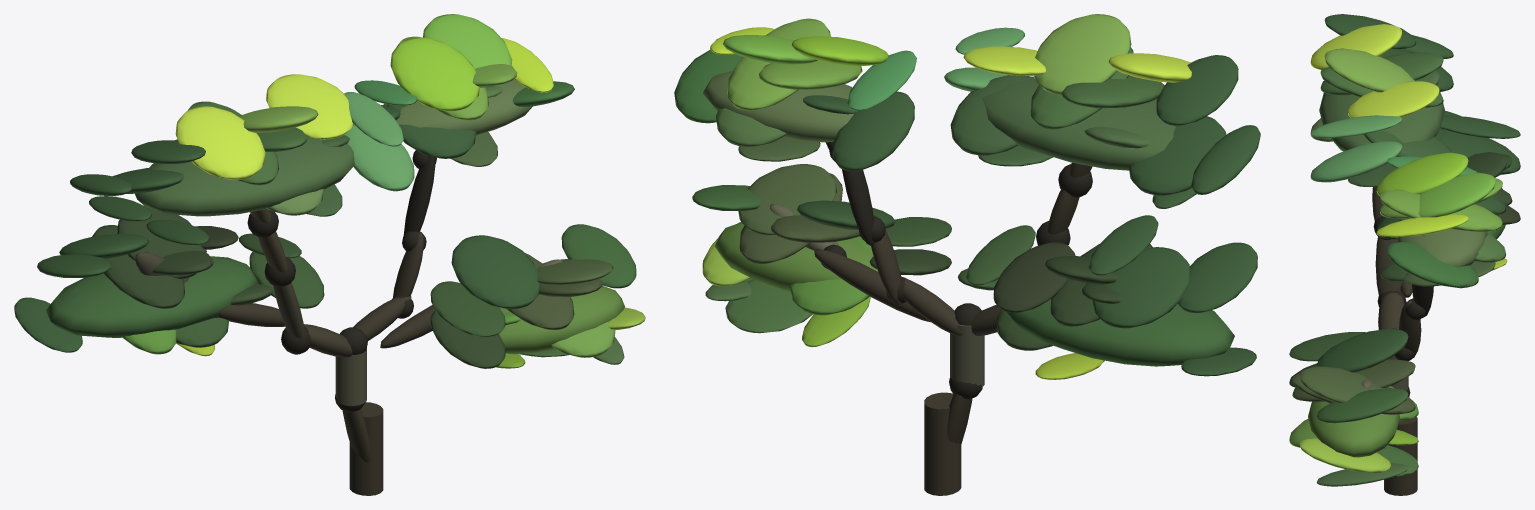
The model's file is CMU3DRMCBushk3.glb.
The picture shows the model from 3 angles, left to right: view 1: azimuth 30°, elevation 25°; view 2: azimuth 150°, elevation 25°; view 3: azimuth 270°, elevation 25°; orthographic projection. The views are drawn at different scales.
Visible parts, largest first — view 1: canopy 2 irregular shaded core, canopy 0 irregular shaded core, canopy 3 source leaf patch 2, canopy 1 source leaf patch 4, canopy 0 source leaf patch 4, canopy 0 source leaf patch 6, canopy 3 irregular shaded core, canopy 1 source leaf patch 2, canopy 1 irregular shaded core, canopy 0 source leaf patch 8, canopy 3 source leaf patch 6, canopy 3 source leaf patch 8 (+42 smaller); view 2: canopy 2 irregular shaded core, canopy 0 irregular shaded core, canopy 0 source leaf patch 3, canopy 2 source leaf patch 1, canopy 1 source leaf patch 5, canopy 1 irregular shaded core, canopy 0 source leaf patch 5, canopy 0 source leaf patch 7, canopy 2 source leaf patch 7, canopy 3 irregular shaded core, canopy 3 source leaf patch 3, canopy 2 source leaf patch 5 (+47 smaller); view 3: canopy 3 irregular shaded core, canopy 0 irregular shaded core, canopy 3 source leaf patch 2, canopy 0 source leaf patch 3, canopy 1 source leaf patch 4, canopy 0 source leaf patch 6, canopy 1 source leaf patch 3, canopy 1 source leaf patch 2, canopy 0 source leaf patch 8, canopy 1 irregular shaded core, canopy 3 source leaf patch 6, canopy 0 source leaf patch 4 (+35 smaller).
Part boxes in pixels (bbox=[...]): canopy 2 irregular shaded core: bbox=[46, 256, 258, 337]; canopy 0 irregular shaded core: bbox=[135, 137, 354, 216]; canopy 3 source leaf patch 2: bbox=[451, 235, 540, 309]; canopy 1 source leaf patch 4: bbox=[390, 37, 479, 111]; canopy 0 source leaf patch 4: bbox=[175, 106, 265, 180]; canopy 0 source leaf patch 6: bbox=[266, 74, 353, 139]; canopy 3 irregular shaded core: bbox=[499, 286, 624, 354]; canopy 1 source leaf patch 2: bbox=[423, 14, 512, 87]; canopy 1 irregular shaded core: bbox=[383, 79, 532, 135]; canopy 0 source leaf patch 8: bbox=[344, 124, 414, 191]; canopy 3 source leaf patch 6: bbox=[561, 224, 636, 288]; canopy 3 source leaf patch 8: bbox=[430, 281, 505, 336]; canopy 2 irregular shaded core: bbox=[1006, 299, 1234, 366]; canopy 0 irregular shaded core: bbox=[981, 76, 1175, 170]; canopy 0 source leaf patch 3: bbox=[1034, 14, 1131, 94]; canopy 2 source leaf patch 1: bbox=[1092, 247, 1190, 328]; canopy 1 source leaf patch 5: bbox=[832, 91, 914, 171]; canopy 1 irregular shaded core: bbox=[703, 71, 853, 142]; canopy 0 source leaf patch 5: bbox=[1129, 116, 1226, 195]; canopy 0 source leaf patch 7: bbox=[1156, 55, 1238, 125]; canopy 2 source leaf patch 7: bbox=[1178, 242, 1257, 312]; canopy 3 irregular shaded core: bbox=[715, 222, 873, 292]; canopy 3 source leaf patch 3: bbox=[738, 164, 836, 235]; canopy 2 source leaf patch 5: bbox=[993, 242, 1075, 312]; canopy 3 irregular shaded core: bbox=[1308, 401, 1399, 457]; canopy 0 irregular shaded core: bbox=[1319, 80, 1444, 151]; canopy 3 source leaf patch 2: bbox=[1317, 328, 1408, 372]; canopy 0 source leaf patch 3: bbox=[1324, 48, 1414, 92]; canopy 1 source leaf patch 4: bbox=[1376, 152, 1468, 195]; canopy 0 source leaf patch 6: bbox=[1348, 81, 1439, 117]; canopy 1 source leaf patch 3: bbox=[1387, 241, 1478, 288]; canopy 1 source leaf patch 2: bbox=[1418, 172, 1495, 217]; canopy 0 source leaf patch 8: bbox=[1310, 141, 1401, 182]; canopy 1 irregular shaded core: bbox=[1396, 219, 1487, 267]; canopy 3 source leaf patch 6: bbox=[1316, 388, 1408, 423]; canopy 0 source leaf patch 4: bbox=[1310, 24, 1401, 69].
Bounding box in the file's own units: 0.9167 × 0.6832 × 0.3706.
